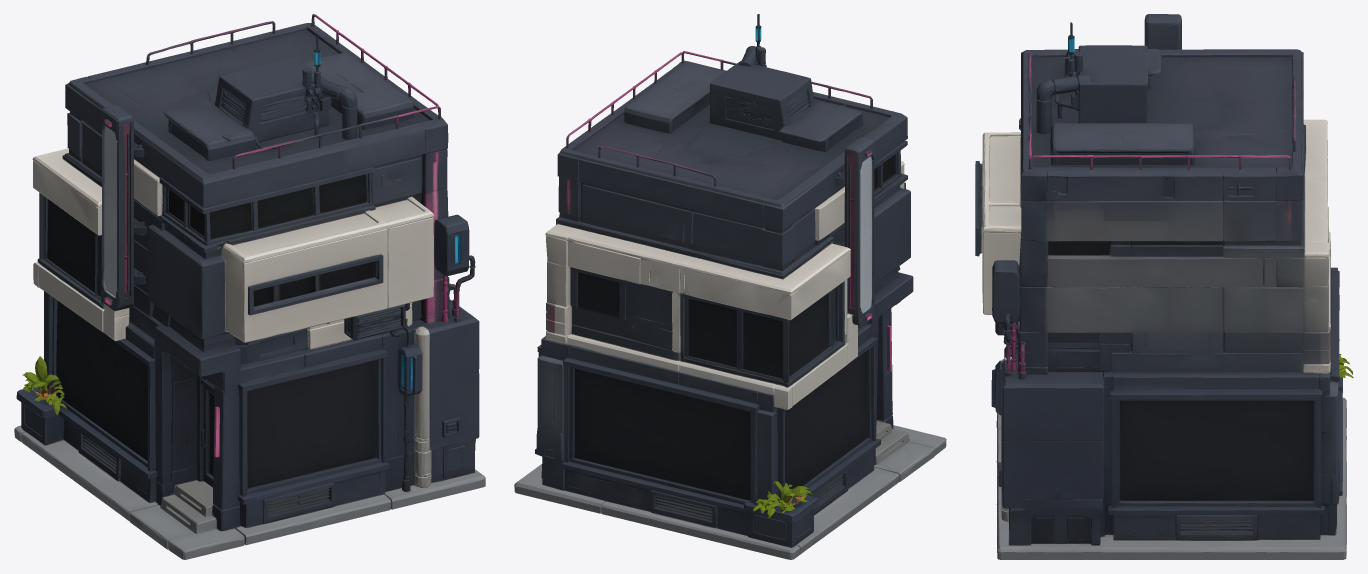
3 views of the same model, side by side, from view 1: azimuth 30°, elevation 25°; view 2: azimuth 150°, elevation 25°; view 3: azimuth 270°, elevation 25° (orthographic). The views are drawn at different scales.
Parts seen in each view (by area): view 1: model; view 2: model; view 3: model.
Boxes of the visible parts, <box> form: model: <box>14,14,485,559</box>; model: <box>514,14,946,559</box>; model: <box>975,14,1353,559</box>.
Bounding box in the file's own units: 1.33 × 1.89 × 1.38.
1 material, 1 textured.
